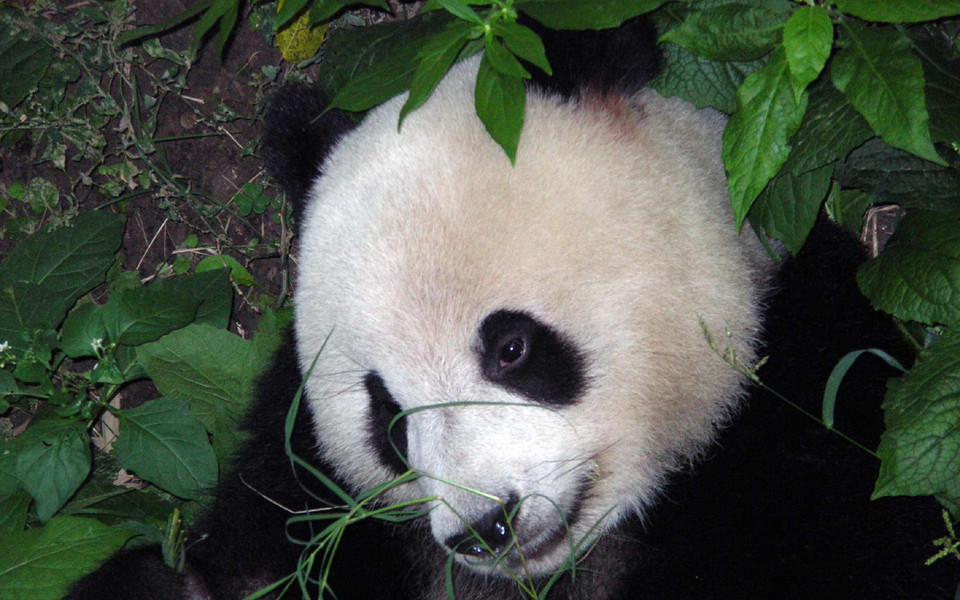panda: (143, 24, 926, 593)
